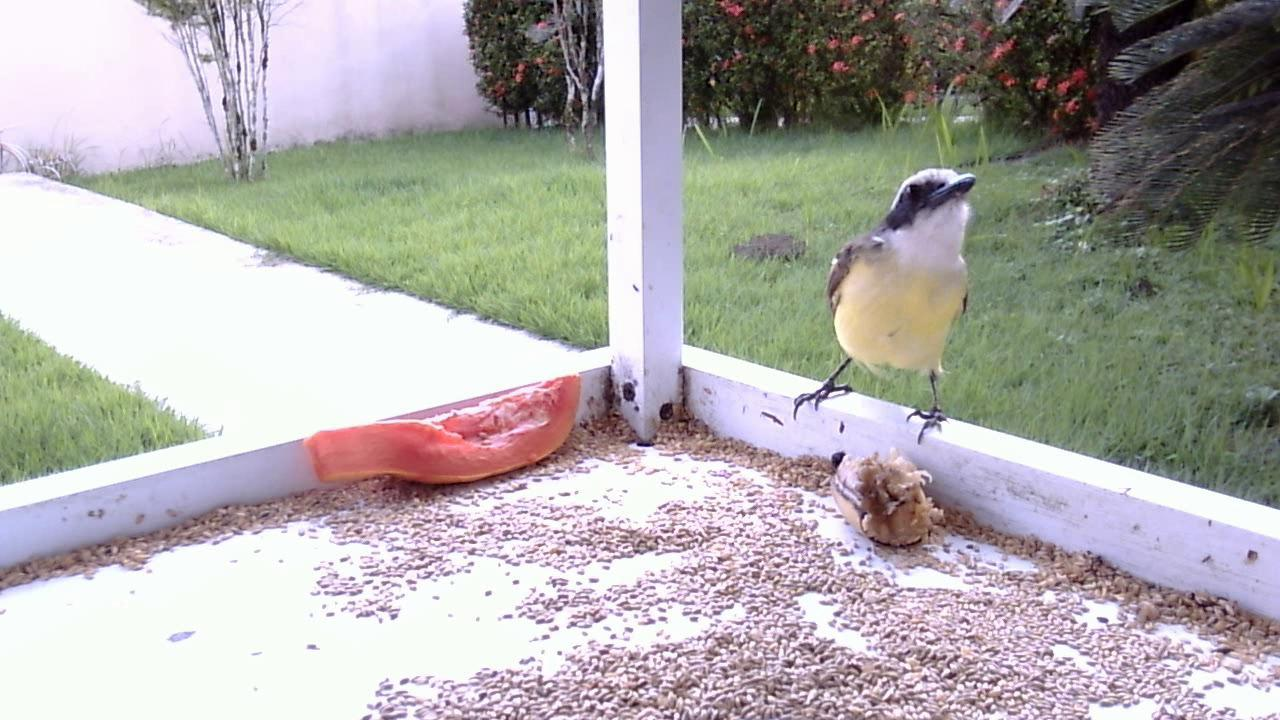bem_te_vi: (790, 162, 977, 450)
